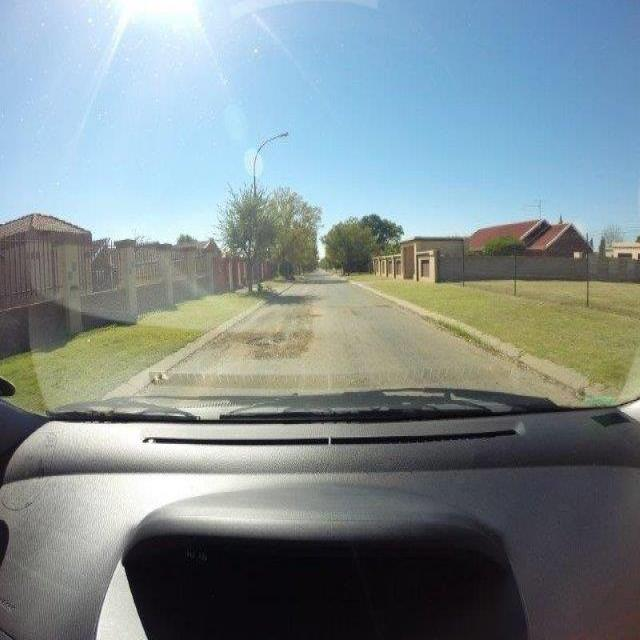lubang: (238, 328, 311, 359)
